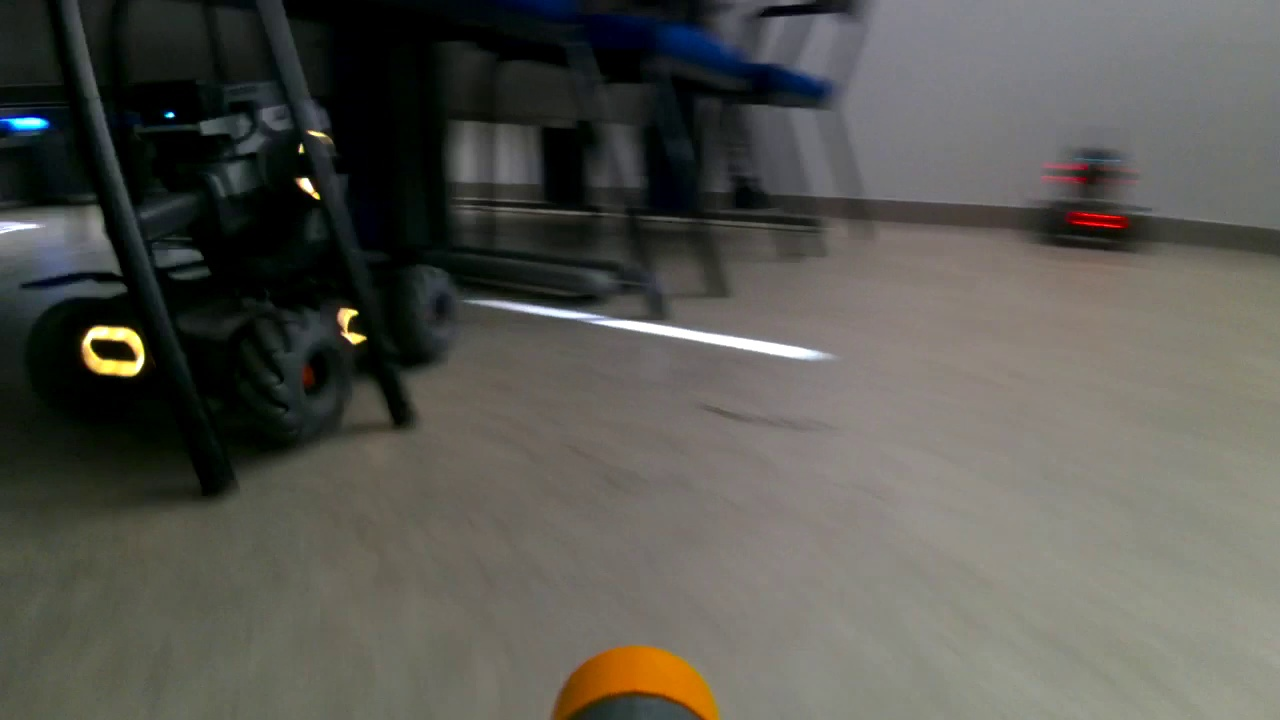robot: (21, 14, 475, 443)
